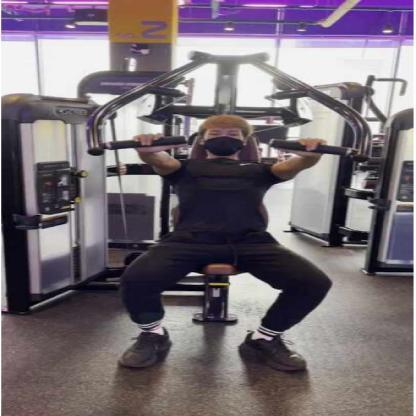Chest Press machine: (1, 48, 413, 384)
